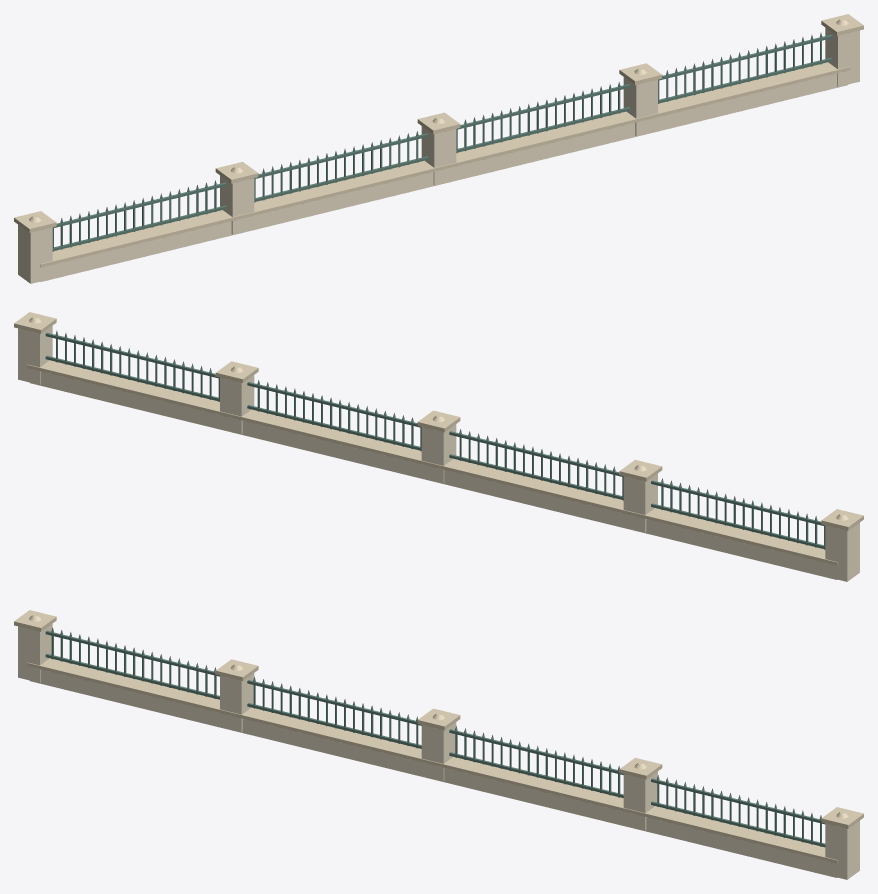
File: park_fence.glb
The picture shows the model from 3 angles, top to bottom: view 1: azimuth 30°, elevation 25°; view 2: azimuth 150°, elevation 25°; view 3: azimuth 330°, elevation 25°; orthographic projection.
Parts seen in each view (by area): view 1: fence; view 2: fence; view 3: fence.
Part boxes in pixels (x1,y1,x2,y2): fence: [14, 14, 863, 283]; fence: [14, 312, 863, 581]; fence: [14, 610, 863, 879].
Bounding box in the file's own units: 12.92 × 0.91 × 0.42.
